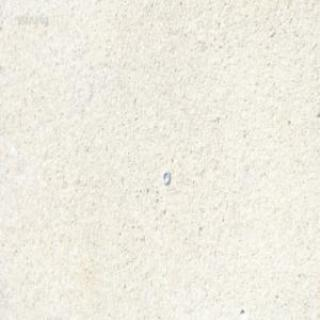Washertrack_idkeyframe: (162, 168, 170, 184)
